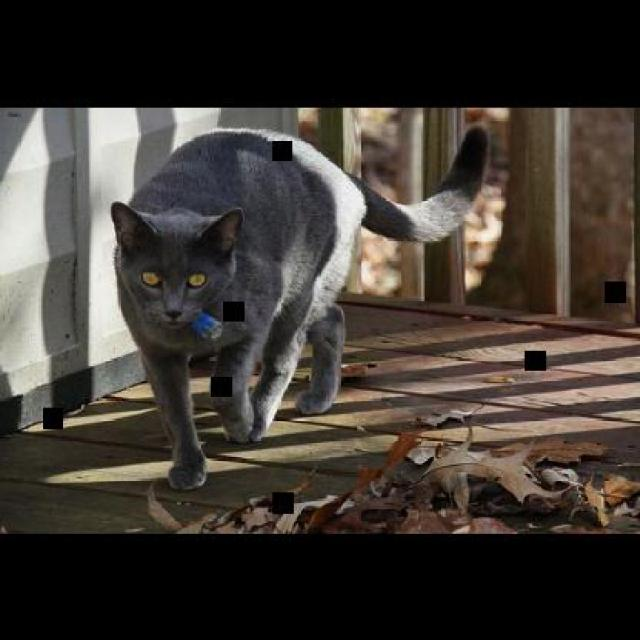unauthorized: (109, 123, 491, 491)
